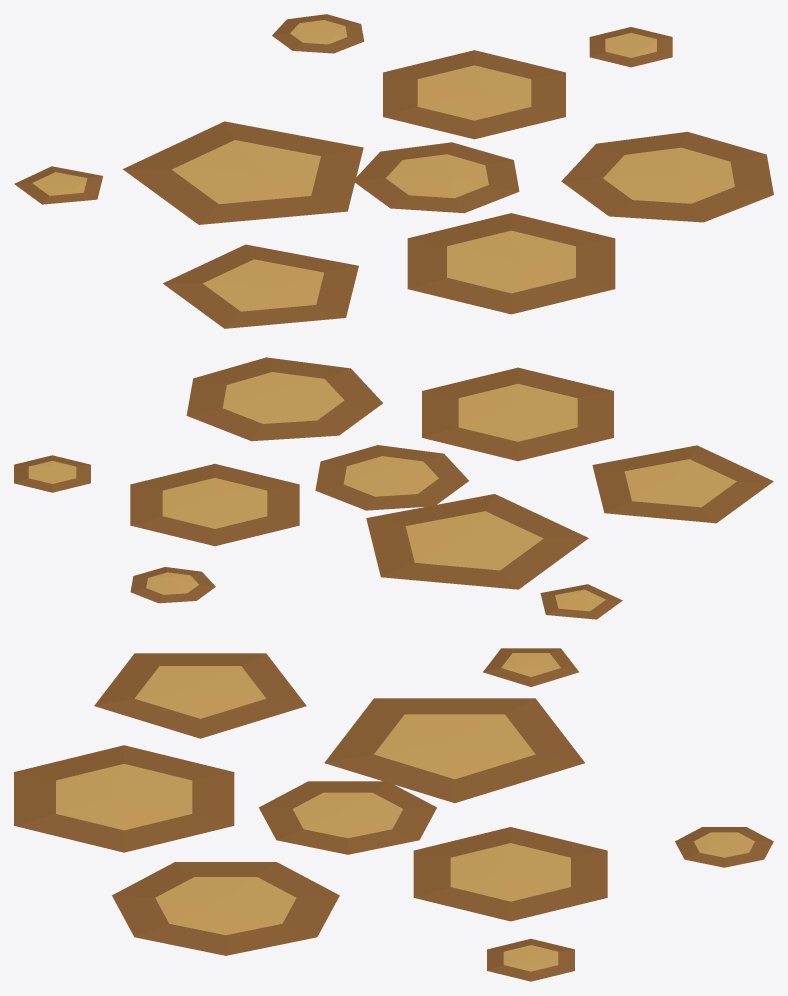
Rendered from crumbs.glb.
3 renders of one model, top to bottom at view 1: azimuth 30°, elevation 25°; view 2: azimuth 150°, elevation 25°; view 3: azimuth 270°, elevation 25°, orthographic. The views are drawn at different scales.
Parts seen in each view (by area): view 1: Crumb03.002, Crumb01.002, Crumb02.002, Crumb04.002, Crumb00.002, Crumb05.002, Crumb08.002, Crumb07.002, Crumb06.002; view 2: Crumb03.002, Crumb01.002, Crumb02.002, Crumb04.002, Crumb00.002, Crumb05.002, Crumb08.002, Crumb07.002, Crumb06.002; view 3: Crumb03.002, Crumb01.002, Crumb02.002, Crumb04.002, Crumb00.002, Crumb05.002, Crumb08.002, Crumb07.002, Crumb06.002.
Boxes of the visible parts, bbox=[...] form: Crumb03.002: bbox=[123, 121, 363, 224]; Crumb01.002: bbox=[407, 213, 615, 314]; Crumb02.002: bbox=[561, 131, 773, 222]; Crumb04.002: bbox=[383, 50, 565, 139]; Crumb00.002: bbox=[163, 244, 358, 328]; Crumb05.002: bbox=[354, 142, 519, 213]; Crumb08.002: bbox=[272, 14, 364, 53]; Crumb07.002: bbox=[589, 27, 672, 67]; Crumb06.002: bbox=[14, 166, 102, 204]; Crumb03.002: bbox=[366, 494, 588, 589]; Crumb01.002: bbox=[422, 367, 613, 461]; Crumb02.002: bbox=[186, 357, 382, 441]; Crumb04.002: bbox=[130, 464, 299, 546]; Crumb00.002: bbox=[592, 445, 773, 523]; Crumb05.002: bbox=[315, 445, 468, 510]; Crumb08.002: bbox=[130, 567, 215, 603]; Crumb07.002: bbox=[14, 455, 90, 492]; Crumb06.002: bbox=[540, 584, 622, 619]; Crumb03.002: bbox=[324, 698, 584, 803]; Crumb01.002: bbox=[14, 745, 234, 852]; Crumb02.002: bbox=[112, 862, 339, 955]; Crumb04.002: bbox=[413, 827, 607, 921]; Crumb00.002: bbox=[94, 653, 306, 738]; Crumb05.002: bbox=[259, 781, 436, 854]; Crumb08.002: bbox=[675, 827, 773, 867]; Crumb07.002: bbox=[487, 938, 574, 981]; Crumb06.002: bbox=[483, 648, 578, 686].
Size of the model in its own units: 1.55 by 0.005 by 1.49.
